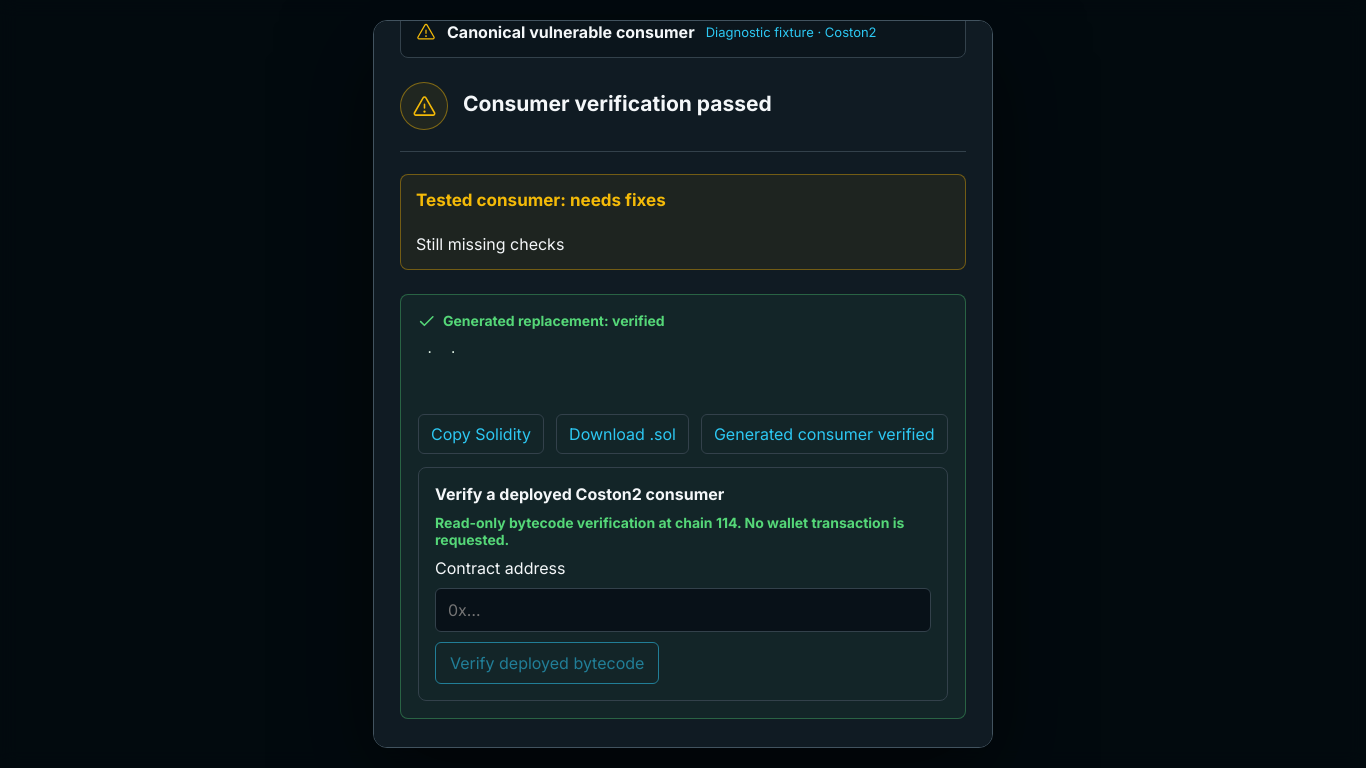
Test case: Slice 019 Consumer Lab surface › renders the honest unavailable deployed-bytecode result without a wallet effect
(page scrolled)
Check: the text "Read-only bytecode verification at chain 114" is shown, box [435,514,904,548]
Check: the button "Verify deployed bytecode" is disabled, box [435,642,659,684]
Type "0x1111111111111111111111111111111111111111" into the field labelled "Contract address" at (683, 610), box [435,588,931,632]
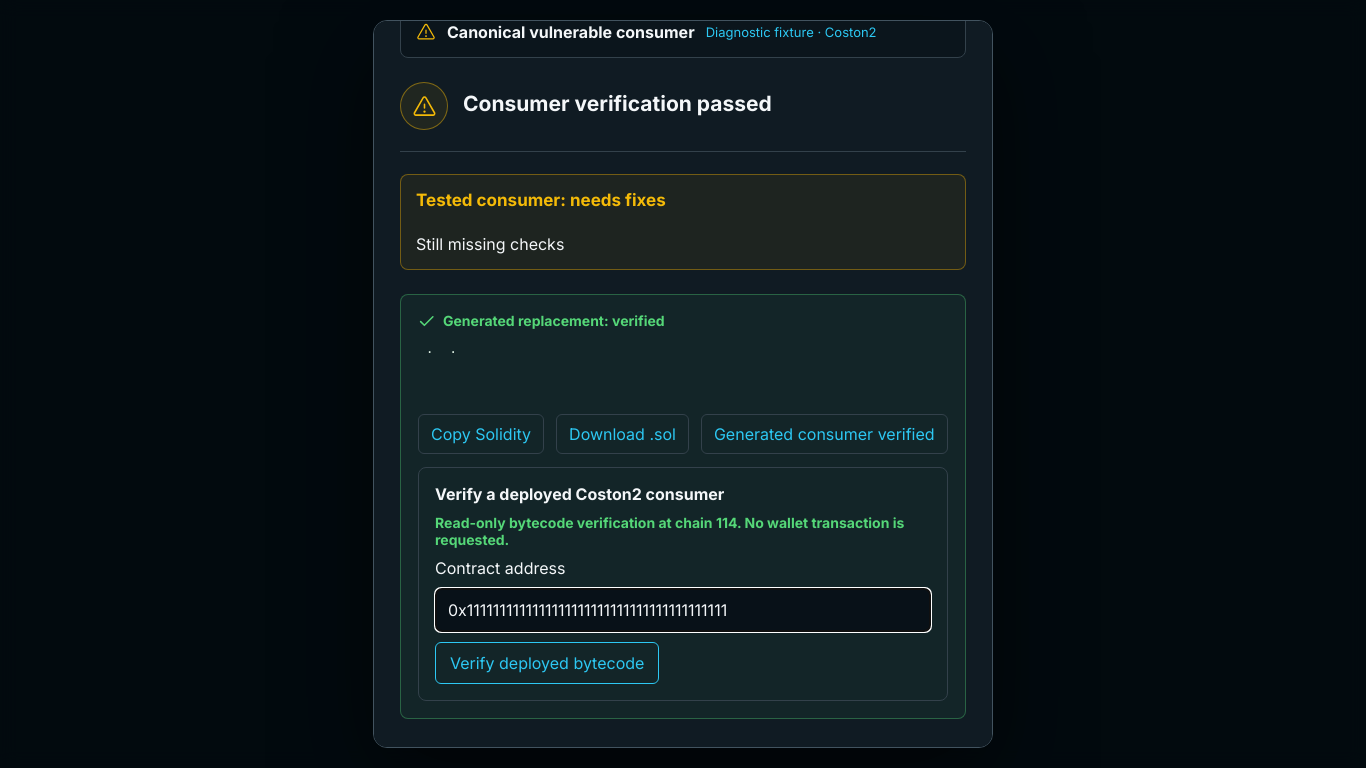
Click the button "Verify deployed bytecode" at (547, 662), box [435,642,659,684]
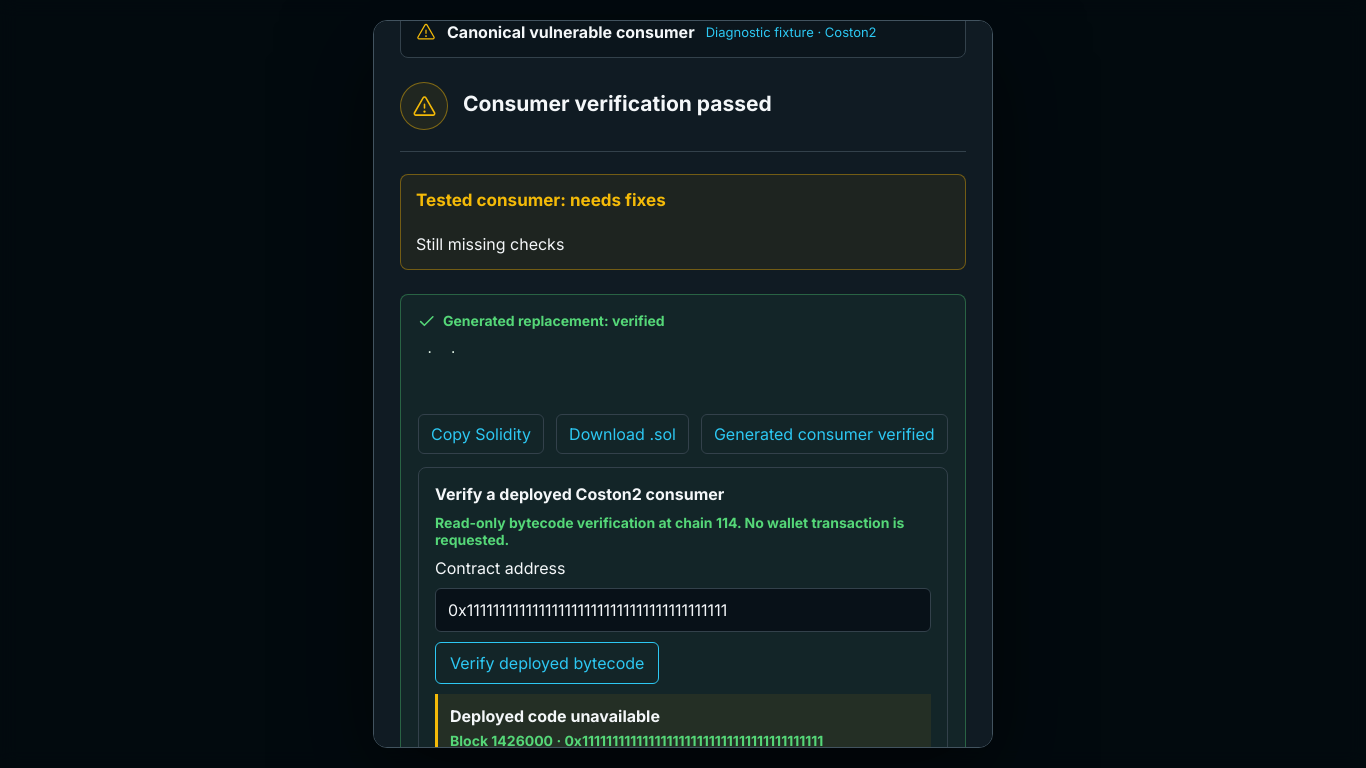
Check: the text "Deployed code unavailable" is shown, box [450,706,660,726]
